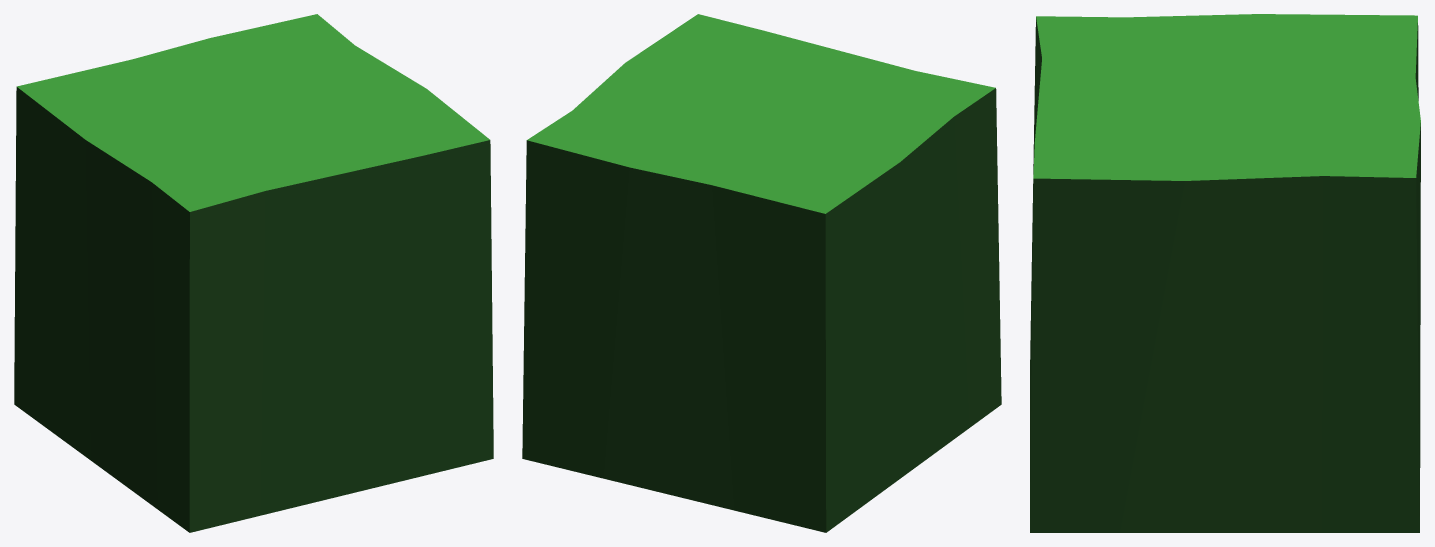
The model's file is BaseTile.fbx.
The picture shows the model from 3 angles, left to right: view 1: azimuth 30°, elevation 25°; view 2: azimuth 150°, elevation 25°; view 3: azimuth 270°, elevation 25°; orthographic projection. The views are drawn at different scales.
Parts seen in each view (by area): view 1: BasicTile; view 2: BasicTile; view 3: BasicTile.
Part boxes in pixels (x1,y1,x2,y2): BasicTile: [14, 14, 493, 532]; BasicTile: [522, 14, 1001, 532]; BasicTile: [1030, 14, 1420, 532].
Bounding box in the file's own units: 101 × 100 × 100.
